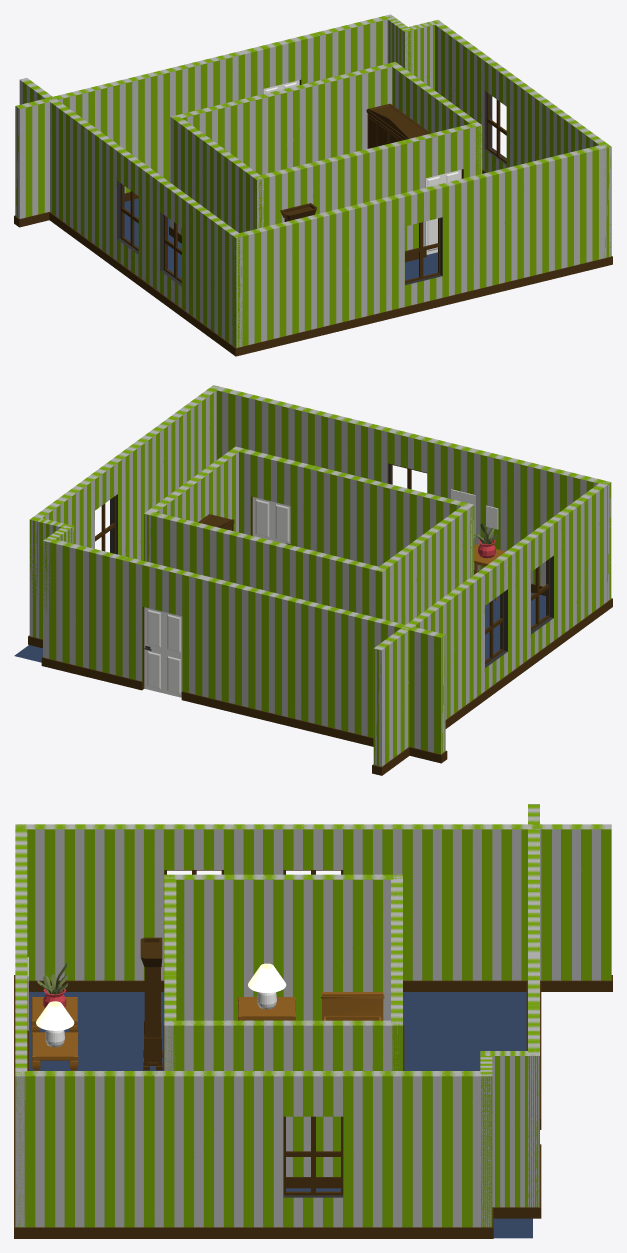
The model's file is Testszene_0002.fbx.
3 views of the same model, one above another, from view 1: azimuth 30°, elevation 25°; view 2: azimuth 150°, elevation 25°; view 3: azimuth 270°, elevation 25° (orthographic). The views are drawn at different scales.
Visible parts, largest first — view 1: Wand_49, Wand_53, Wand_44, Wand_47, Wand_50, Wand_31, Wand_41, Wand_12, Wand_6, Wand_4, Wand_29, Wand_56 (+32 smaller); view 2: Wand_10, Wand_12, Wand_14, Wand_8, Wand_56, Wand_4, Wand_49, Wand_41, Wand, Wand_58, Wand_53, Wand_39 (+27 smaller); view 3: Wand_21, Wand_23, Wand_18_2, Wand, Wand_41, Teppich, Wand_6, Wand_37, Wand_19_2, Wand_35, Wand_27, Wand_39 (+35 smaller).
Boxes of the visible parts, box(x1,y1,x2,y2) form: Wand_49: box(307, 198, 386, 329); Wand_53: box(457, 162, 536, 292); Wand_44: box(232, 216, 311, 347); Wand_47: box(532, 144, 610, 274); Wand_50: box(382, 180, 461, 311); Wand_31: box(246, 80, 324, 174); Wand_41: box(193, 204, 243, 347); Wand_12: box(91, 69, 169, 193); Wand_6: box(63, 109, 113, 252); Wand_4: box(15, 87, 94, 218); Wand_29: box(321, 62, 398, 159); Wand_56: box(328, 140, 407, 250); Wand_10: box(202, 576, 285, 715); Wand_12: box(282, 595, 365, 734); Wand_14: box(43, 539, 126, 676); Wand_8: box(122, 557, 206, 695); Wand_56: box(310, 466, 394, 566); Wand_4: box(361, 615, 445, 754); Wand_49: box(447, 443, 531, 570); Wand_41: box(558, 480, 611, 631); Wand: box(373, 615, 427, 766); Wand_58: box(234, 447, 314, 549); Wand_53: box(288, 404, 371, 478); Wand_39: box(512, 514, 565, 665); Wand_21: box(134, 1071, 253, 1227); Wand_23: box(15, 1071, 134, 1227); Wand_18_2: box(373, 1071, 492, 1227); Wand: box(492, 824, 611, 980); Wand_41: box(15, 824, 134, 980); Teppich: box(29, 992, 532, 1238); Wand_6: box(373, 824, 492, 980); Wand_37: box(164, 874, 283, 1020); Wand_19_2: box(254, 1071, 372, 1227); Wand_35: box(283, 874, 402, 1020); Wand_27: box(283, 1020, 402, 1176); Wand_39: box(134, 824, 253, 980).
Bounding box in the file's own units: 1085 × 302 × 1005.
10 materials, 1 textured.
